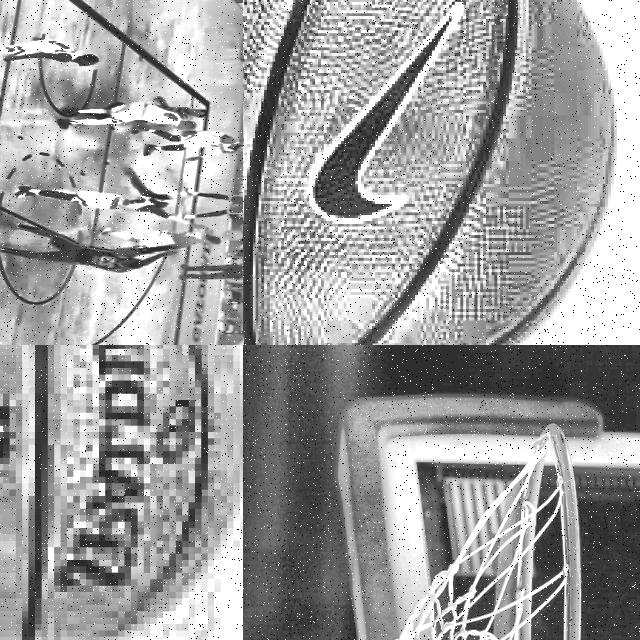Basketball: (243, 0, 613, 345), (225, 230, 243, 241)
